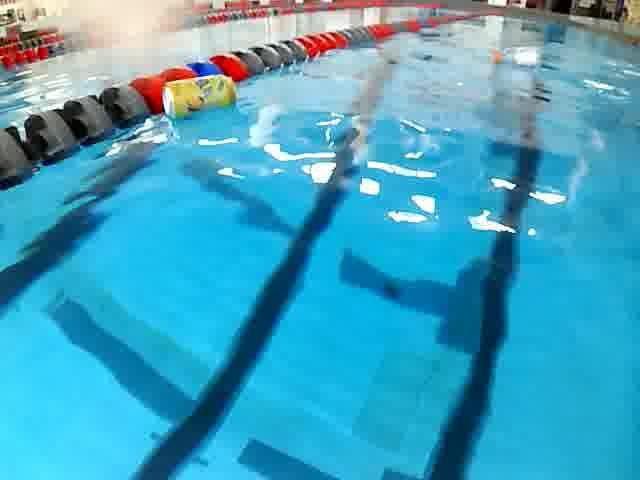Bottle: (476, 40, 546, 70)
Can: (156, 67, 245, 125)
